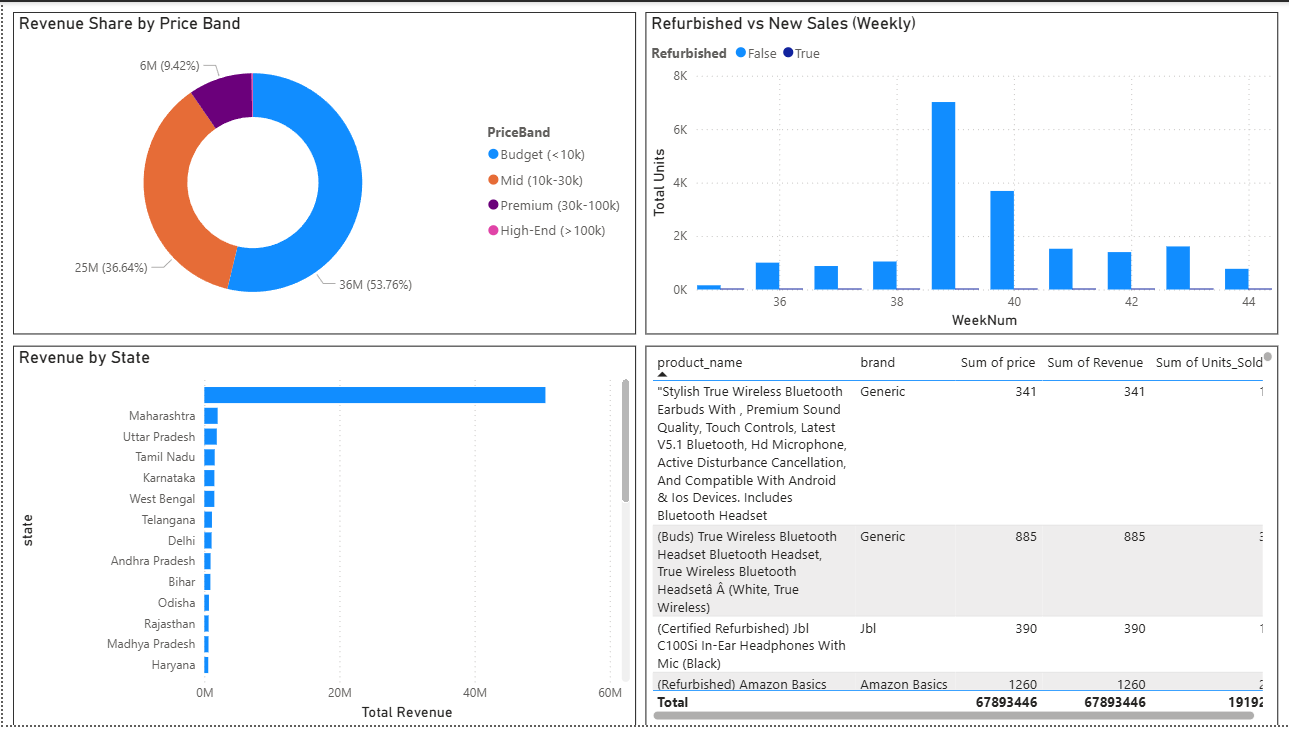

The dashboard page shown, as its layout file describes it:
{"tool":"powerbi","page":{"name":"Page 2","canvas":[1280,720],"ordinal":1},"visuals":[{"type":"donutChart","title":"Revenue Share by Price Band","fields":{"Category":["ANALYSIS_INPUT.PriceBand"],"Y":["ANALYSIS_INPUT.Total Revenue"]},"box":[9.6,9.6,620.2,321.1],"z":0},{"type":"clusteredColumnChart","title":"Refurbished vs New Sales (Weekly)","fields":{"Category":["DateTable.WeekNum"],"Y":["ANALYSIS_INPUT.Total Units"],"Series":["ANALYSIS_INPUT.Refurbished"]},"box":[639.5,9.6,629.8,321.1],"z":1000},{"type":"barChart","title":"Revenue by State","fields":{"Category":["ANALYSIS_INPUT.state"],"Y":["ANALYSIS_INPUT.Total Revenue"]},"box":[9.6,341.7,620.2,378.7],"z":1001},{"type":"tableEx","fields":{"Values":["ANALYSIS_INPUT.product_name","ANALYSIS_INPUT.brand","Sum(ANALYSIS_INPUT.price)","Sum(ANALYSIS_INPUT.Revenue)","Sum(ANALYSIS_INPUT.Units_Sold)"]},"box":[639.5,341.7,629.8,378.7],"z":1002}]}

Visuals, with their boxes in screenshot pixels (x1, y1, x2, y2), scaled from the page's 1280x720 canvas onto the 1289x731 screenshot:
"Revenue Share by Price Band" donutChart: box(10, 10, 634, 336)
"Refurbished vs New Sales (Weekly)" clusteredColumnChart: box(644, 10, 1278, 336)
"Revenue by State" barChart: box(10, 347, 634, 730)
tableEx - ANALYSIS_INPUT.product_name x ANALYSIS_INPUT.brand: box(644, 347, 1278, 730)
